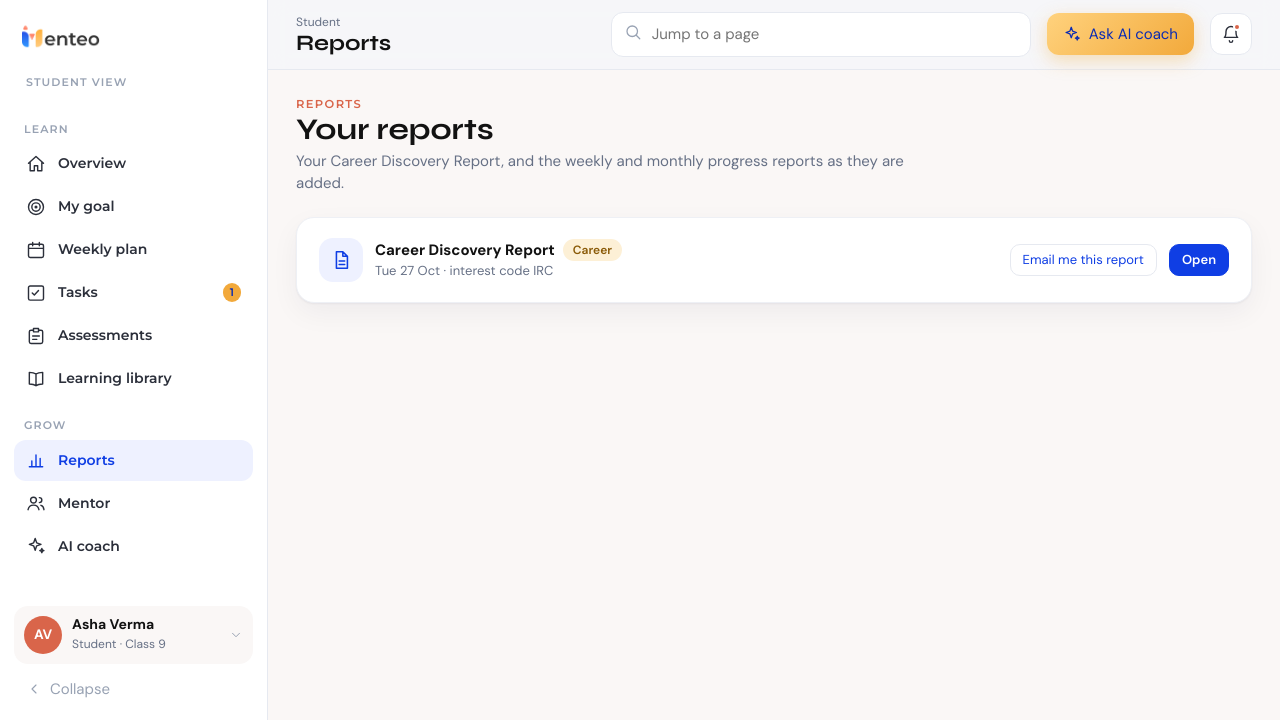
Test: student: reports › emails the report right away when it is ready
The width and height of the screenshot is (1280, 720).
Click the button "Email me this report" at [1083, 260], box [1010,244,1157,276]
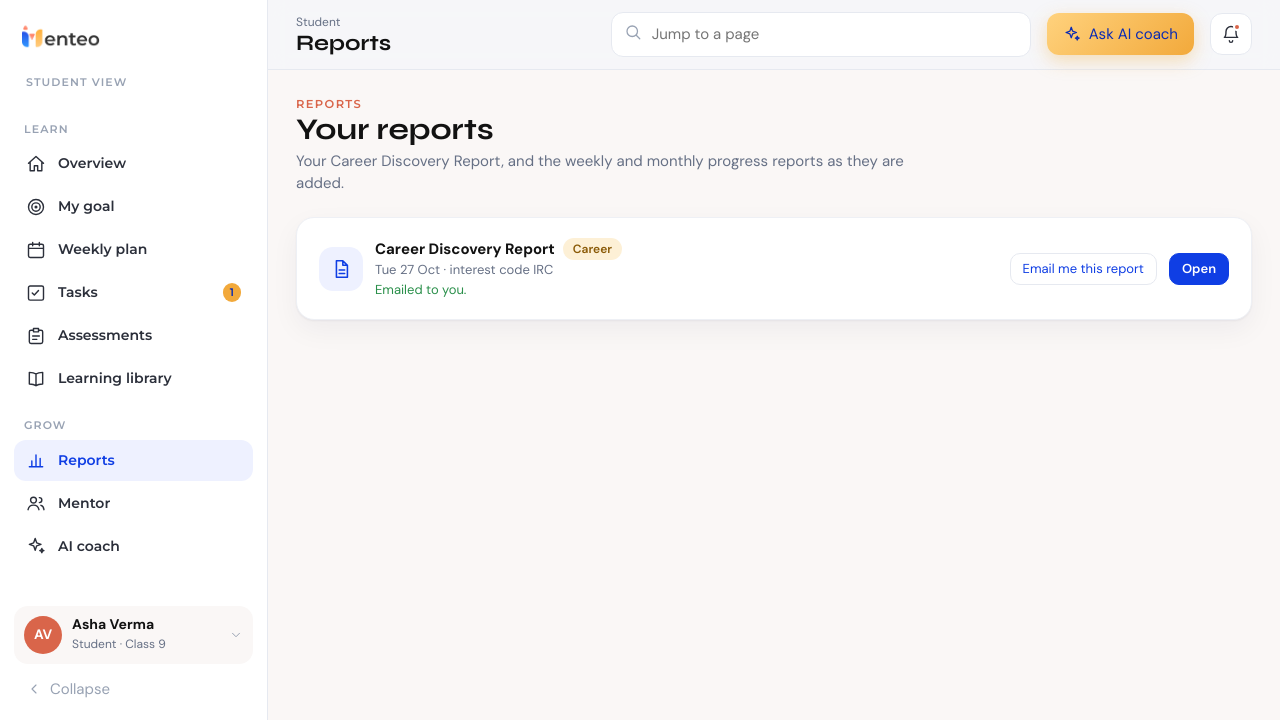
Now the text "Emailed to you." is shown, box [375,281,466,298]
